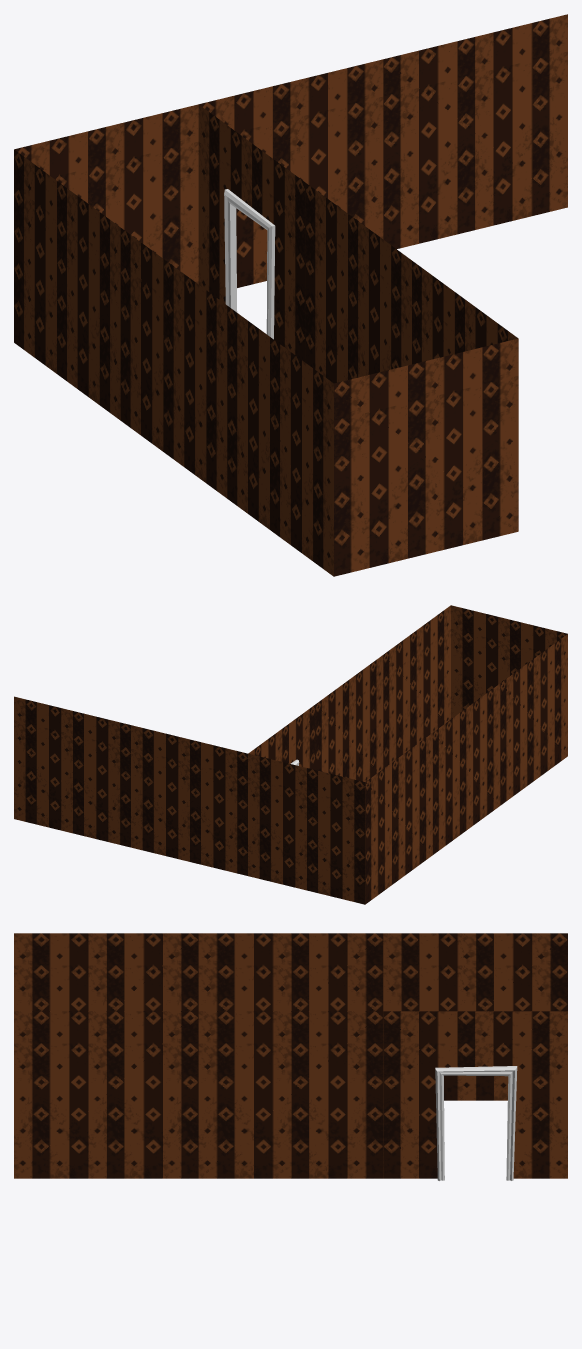
Rendered from Wall.fbx.
3 renders of one model, top to bottom at view 1: azimuth 30°, elevation 25°; view 2: azimuth 150°, elevation 25°; view 3: azimuth 270°, elevation 25°, orthographic. The views are drawn at different scales.
Parts seen in each view (by area): view 1: Plane, Plane.005, Plane.001, Plane.002, Plane.003, Plane.004, Cube; view 2: Plane.005, Plane, Plane.003, Plane.002, Plane.001, Plane.004; view 3: Plane.002, Plane, Plane.004, Cube.
Part boxes in pixels (x1,y1,x2,y2): Plane: (14,149,333,576); Plane.005: (199,14,567,287); Plane.001: (334,338,518,576); Plane.002: (305,182,517,383); Plane.003: (14,104,198,284); Plane.004: (198,104,305,362); Cube: (224,189,275,339); Plane.005: (14,696,247,875); Plane: (365,634,567,904); Plane.003: (248,753,365,904); Plane.002: (315,605,450,781); Plane.001: (451,605,567,718); Plane.004: (248,704,315,769); Plane.002: (14,1011,383,1178); Plane: (14,933,567,1100); Plane.004: (383,1011,567,1178); Cube: (435,1066,517,1180).
Bounding box in the file's own units: 600 × 201 × 600.
3 materials, 2 textured.
